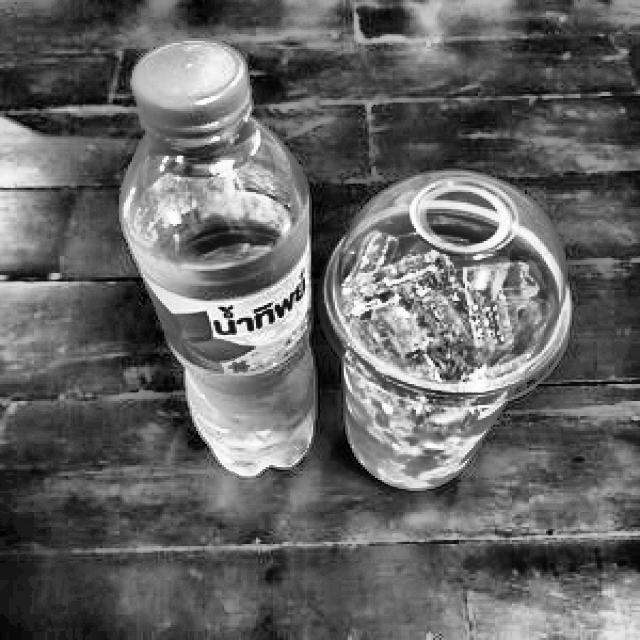waterbottle: (113, 27, 323, 491)
